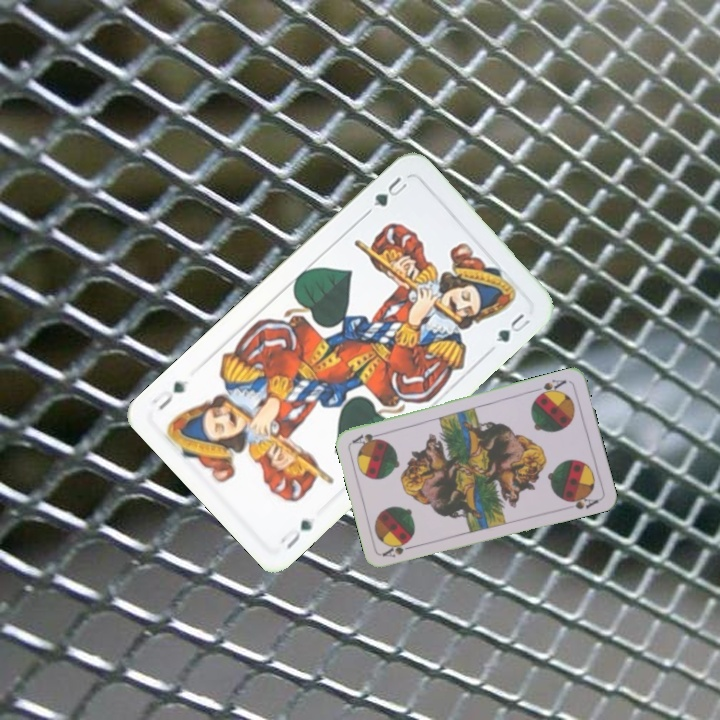GU: (369, 172, 412, 210), (276, 515, 315, 553)
SA: (531, 375, 569, 400), (379, 538, 419, 560)
